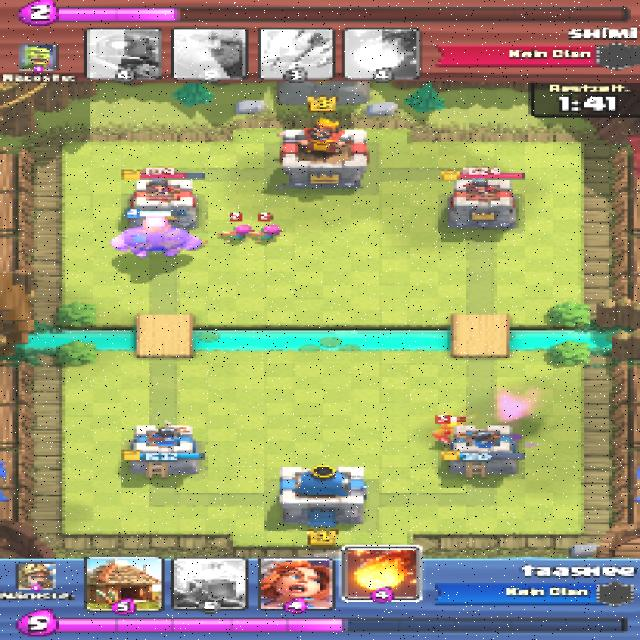Enemy-Archer: (245, 225, 282, 242), (218, 225, 251, 242)
Enemy-Goblin: (432, 422, 469, 442)
Player-Giant: (108, 217, 206, 257)
